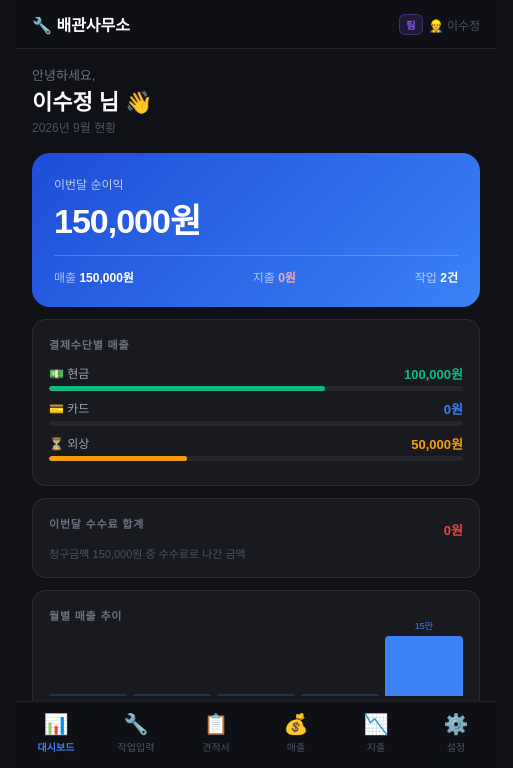
it: 순이익 카드 클릭 → 매출일지로 전환
The image size is (513, 768).
Click the text "이번달 순이익". click: [89, 185]
box: [54,178,124,192]
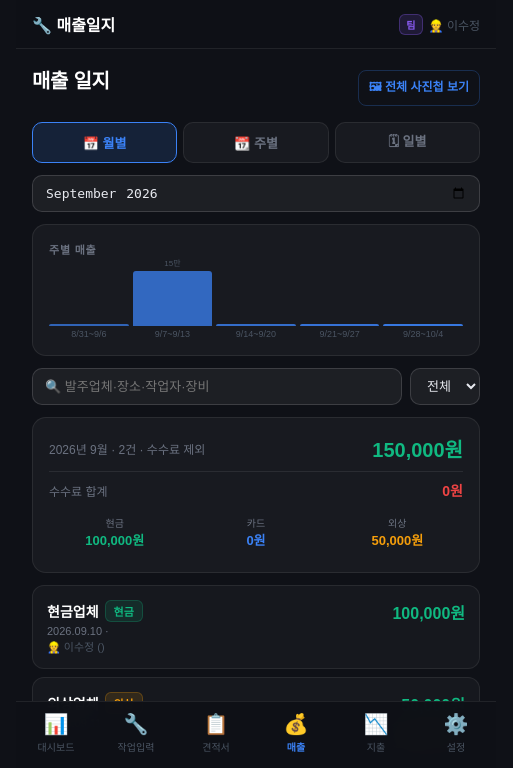
Check: the text "🔧 매출일지" is shown, box [32,12,115,36]
Check: the button "이번달 순이익" is gone
